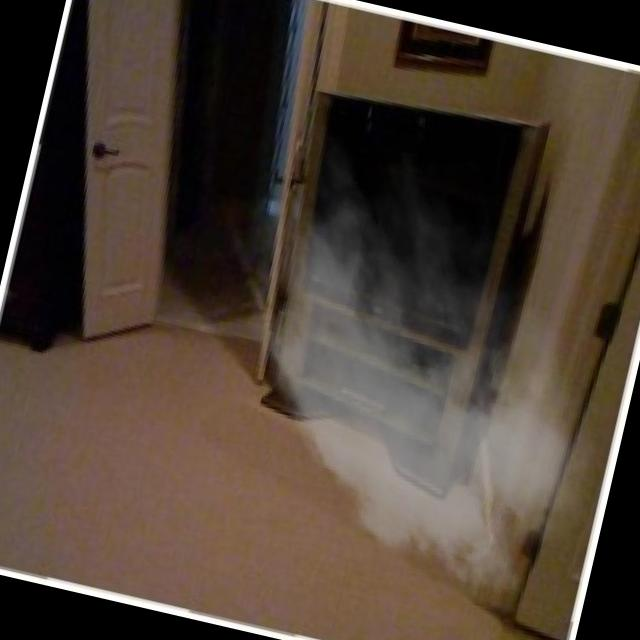Smoke: (168, 119, 640, 628)
